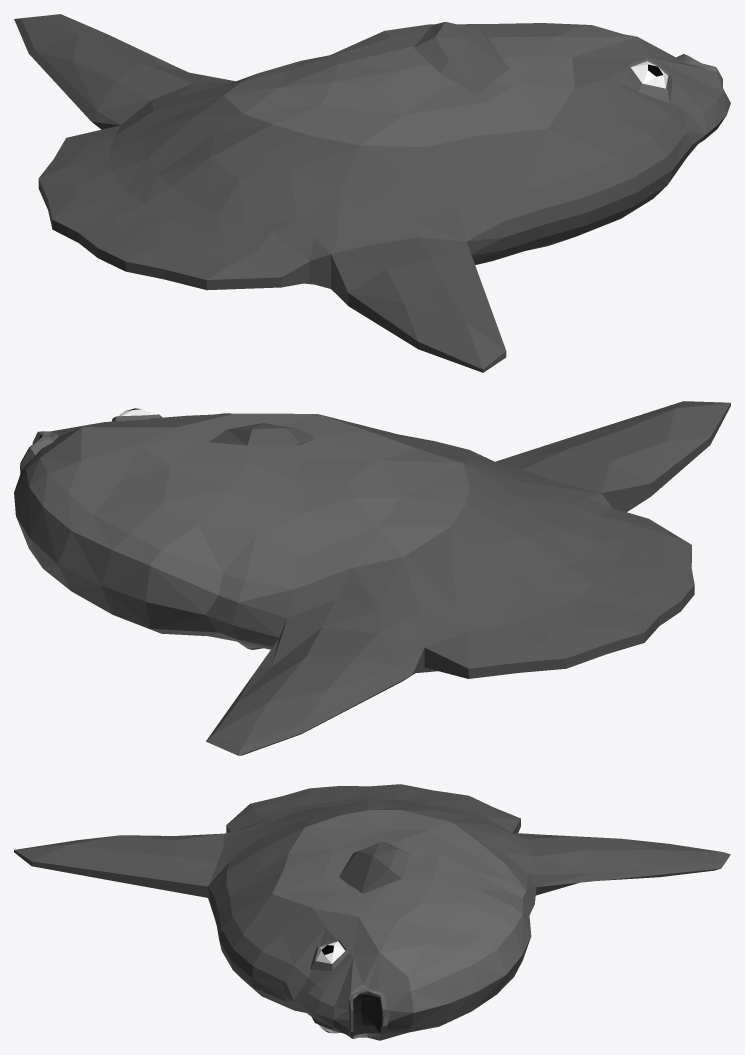
The model's file is Sunfish.obj.
3 views of the same model, one above another, from view 1: azimuth 30°, elevation 25°; view 2: azimuth 150°, elevation 25°; view 3: azimuth 270°, elevation 25° (orthographic). The views are drawn at different scales.
Parts seen in each view (by area): view 1: Sunfish_0; view 2: Sunfish_0; view 3: Sunfish_0.
Part boxes in pixels (box(x1,y1,x2,y2)): Sunfish_0: box(14, 14, 730, 372); Sunfish_0: box(14, 401, 730, 755); Sunfish_0: box(14, 784, 730, 1040).
Size of the model in its own units: 1.52 by 0.4978 by 1.98.
1 material, 1 textured.
